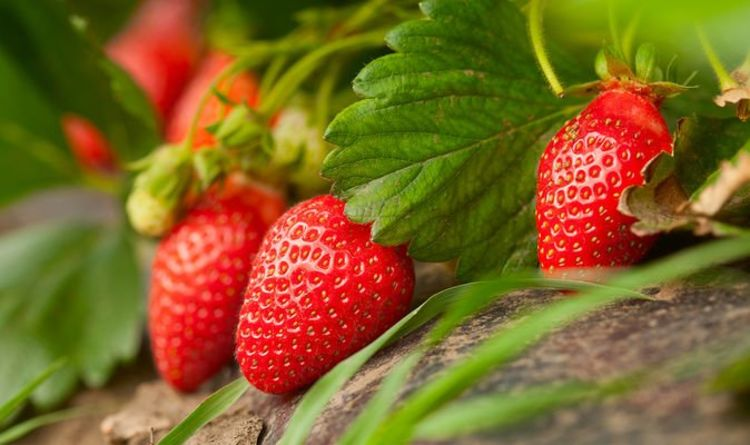ripe: (228, 192, 419, 397), (532, 82, 687, 287), (149, 168, 282, 403), (59, 2, 205, 172), (174, 45, 279, 152)
unripe: (266, 102, 365, 190), (129, 143, 194, 241)
